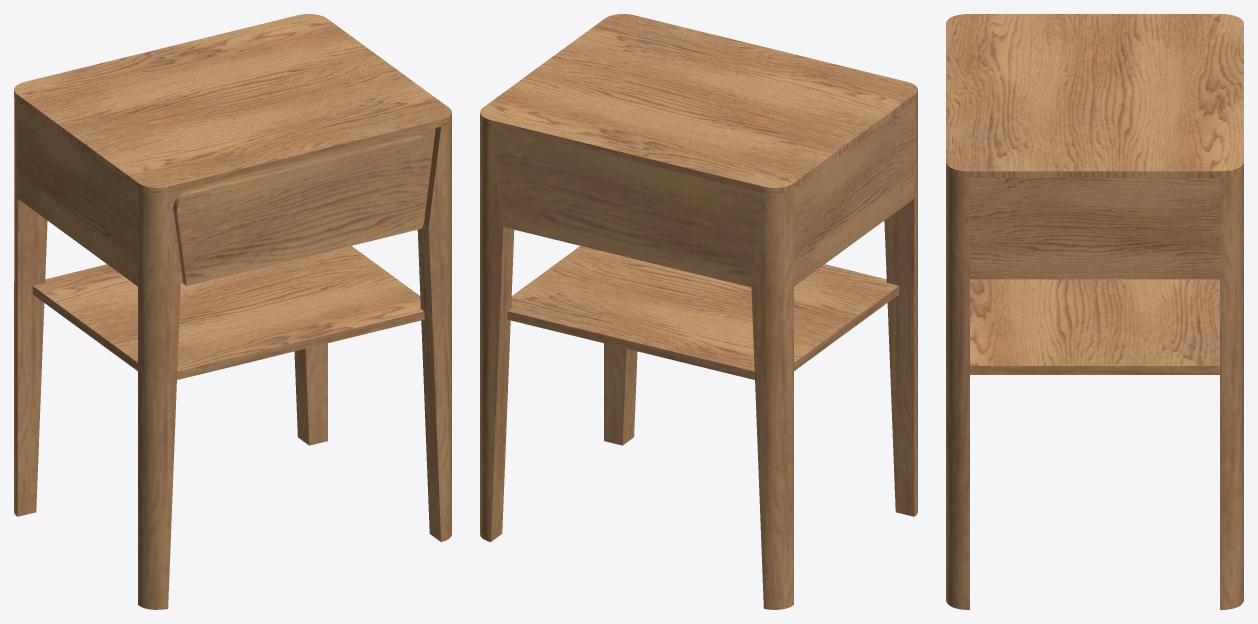
File: bedside-v4.glb
3 views of the same model, side by side, from view 1: azimuth 30°, elevation 25°; view 2: azimuth 150°, elevation 25°; view 3: azimuth 270°, elevation 25° (orthographic). The views are drawn at different scales.
Bounding box in the file's own units: 0.5 × 0.65 × 0.4.
Materials: 4 (4 with a texture image).
